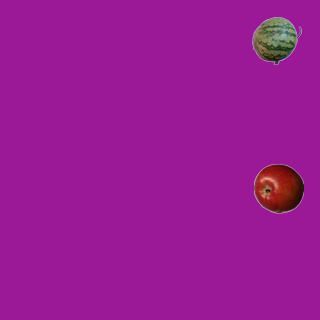Apple Braeburn: (253, 163, 303, 213)
Watermelon: (251, 15, 301, 65)
